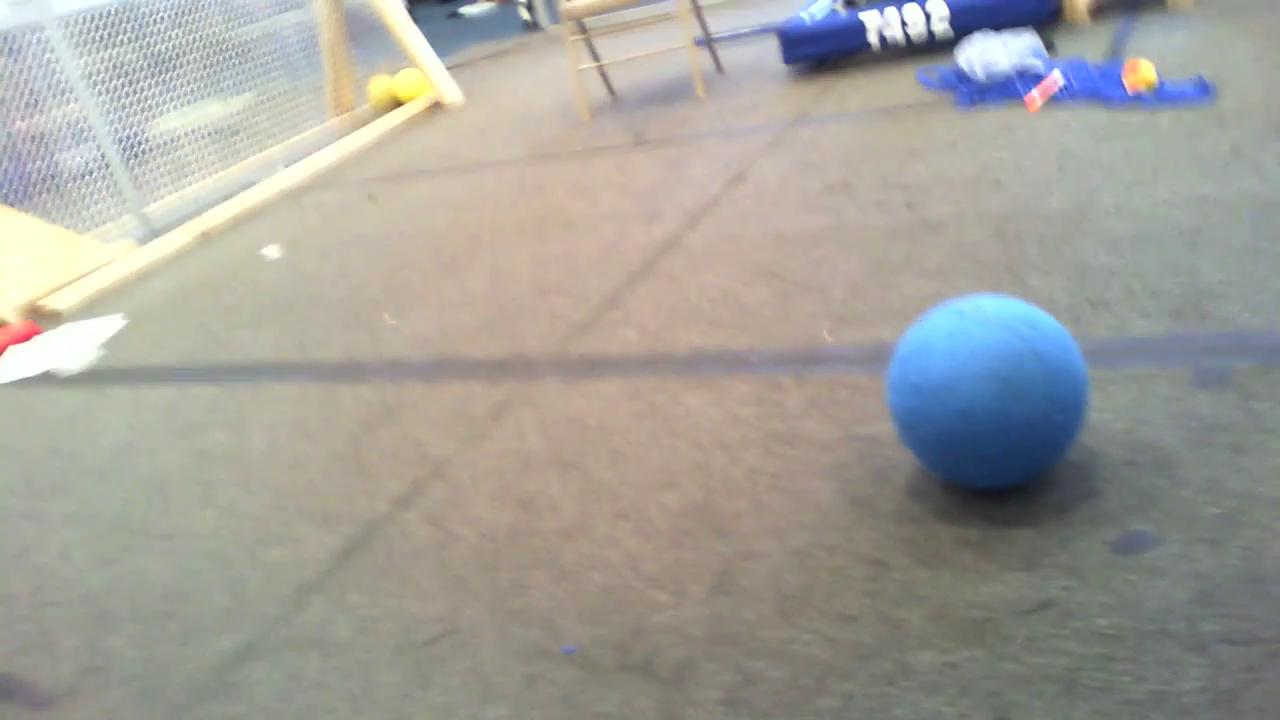blue_cargo: (889, 290, 1088, 498)
